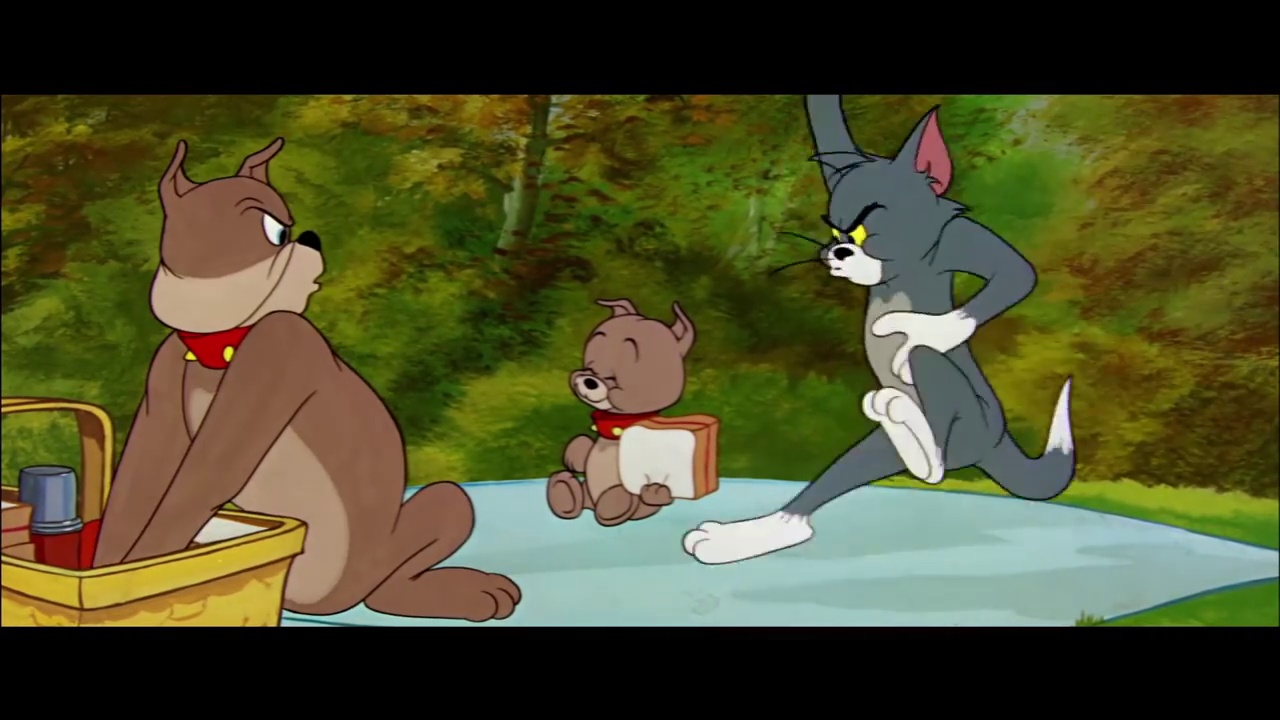spike: (139, 133, 335, 372)
tom: (811, 107, 966, 289)
